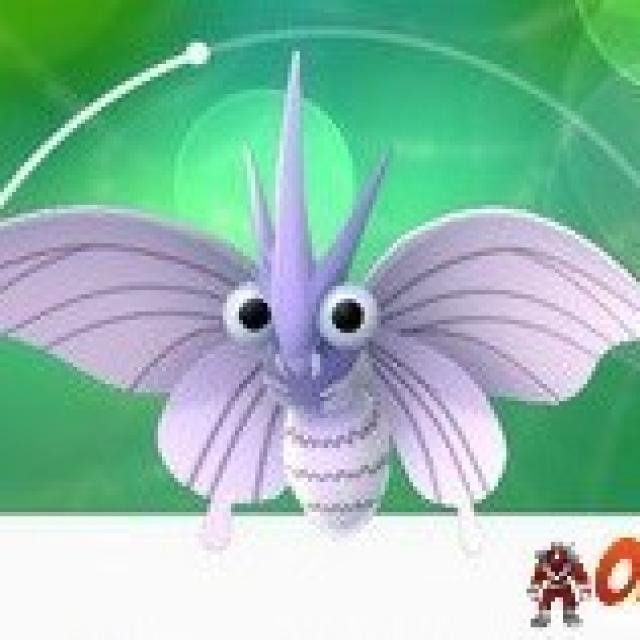Venomoth: (132, 153, 520, 534)
